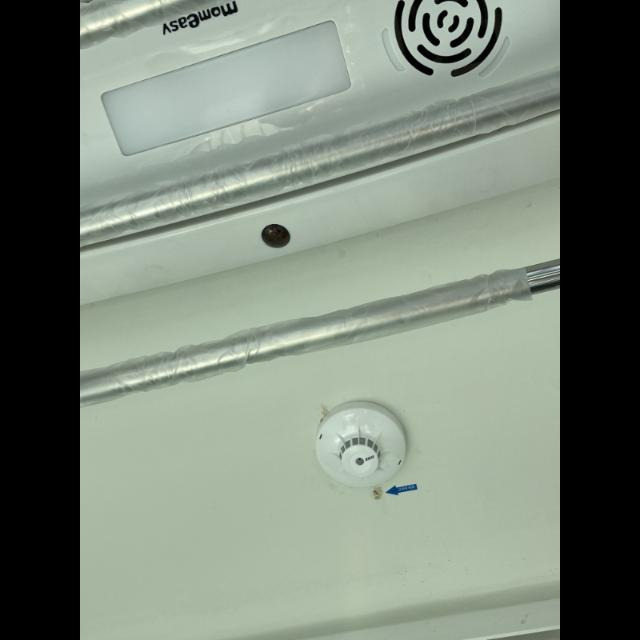Smoke-Detector: (314, 400, 408, 490)
